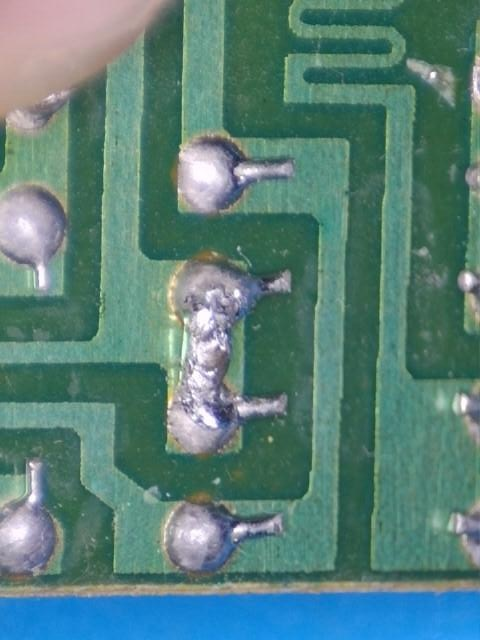pcb_defect: (170, 263, 262, 453)
